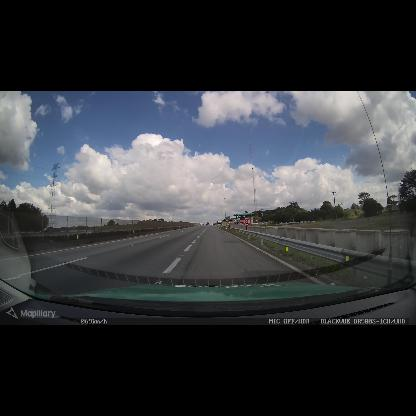R-6c: (243, 217, 251, 226)
